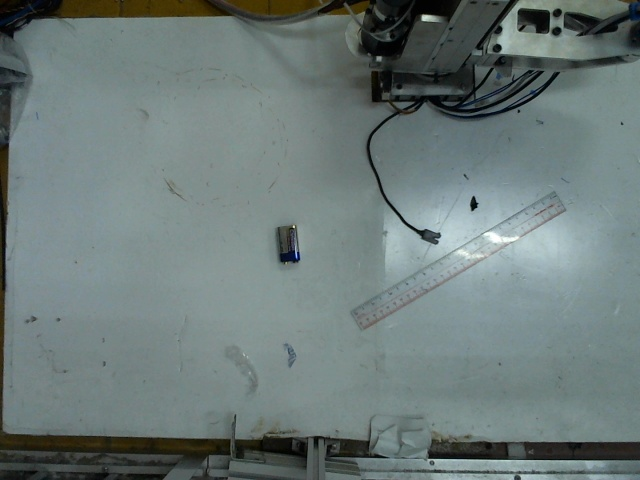battery: (271, 223, 302, 263)
